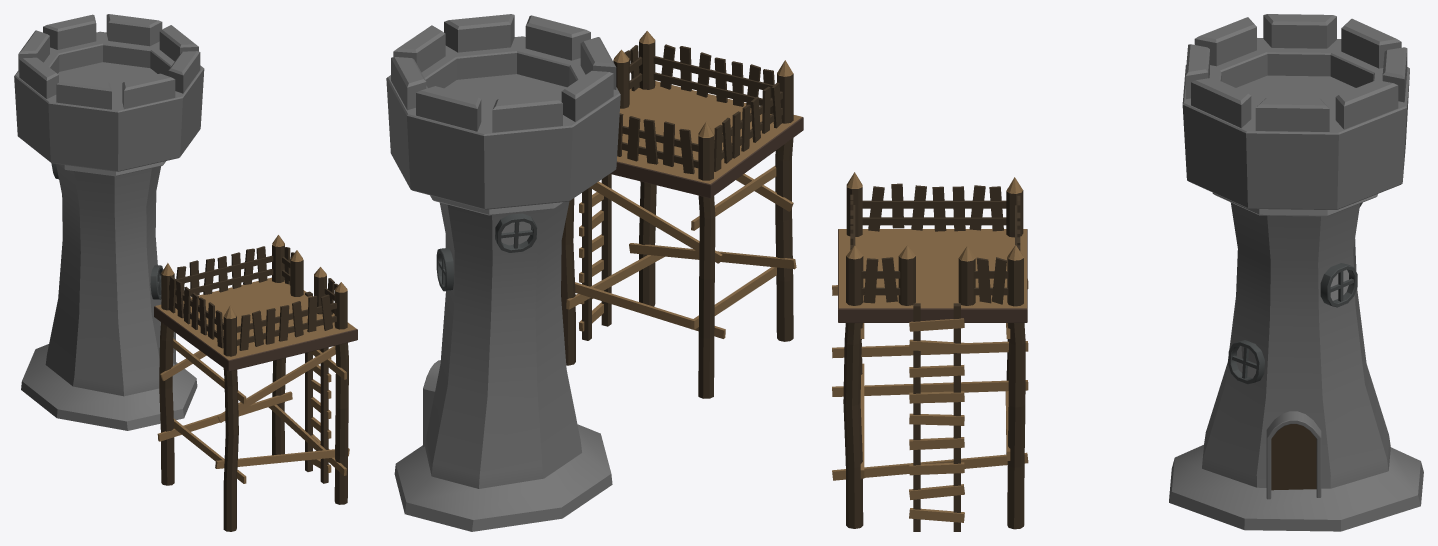
The model's file is Towers.fbx.
The picture shows the model from 3 angles, left to right: view 1: azimuth 30°, elevation 25°; view 2: azimuth 150°, elevation 25°; view 3: azimuth 270°, elevation 25°; orthographic projection. The views are drawn at different scales.
Visible parts, largest first — view 1: Level_2_Tower, Level_1_Tower; view 2: Level_2_Tower, Level_1_Tower; view 3: Level_2_Tower, Level_1_Tower.
Part boxes in pixels (x1,y1,x2,y2): Level_2_Tower: (14, 14, 204, 430); Level_1_Tower: (154, 235, 357, 531); Level_2_Tower: (386, 14, 620, 531); Level_1_Tower: (561, 31, 803, 398); Level_2_Tower: (1169, 14, 1423, 531); Level_1_Tower: (832, 172, 1028, 531).
Bounding box in the file's own units: 15.31 × 31.89 × 39.82.
